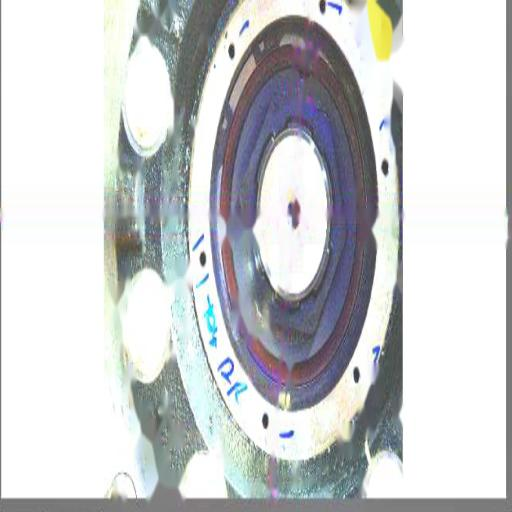center: (286, 195, 302, 232)
notch: (296, 62, 312, 86)
